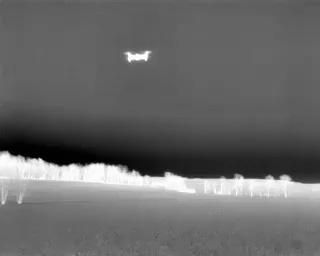DRONE: (120, 45, 155, 68)
